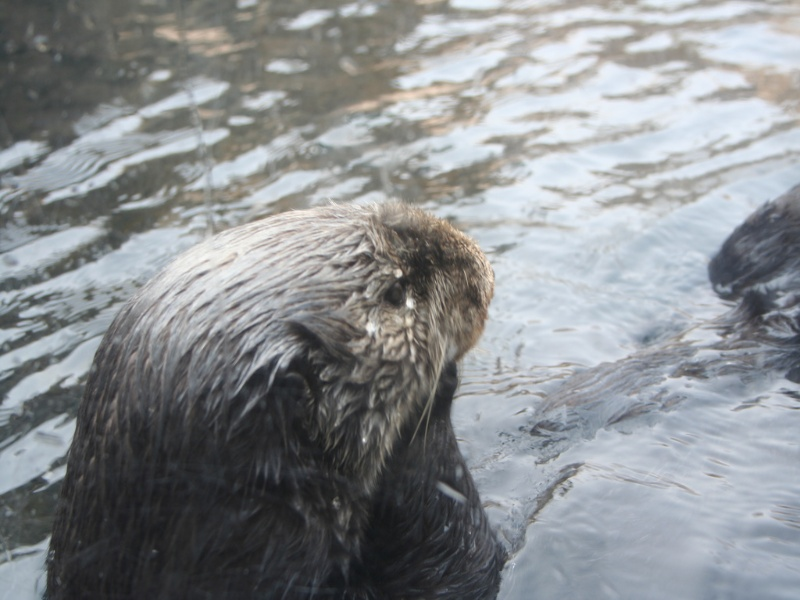minkish: (46, 180, 515, 572)
